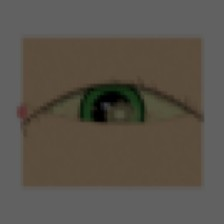corneal_ulcer: (97, 98, 141, 134)
